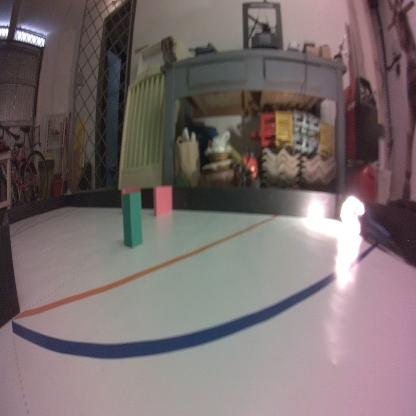green: (120, 190, 143, 251)
magenta: (152, 183, 175, 221)
